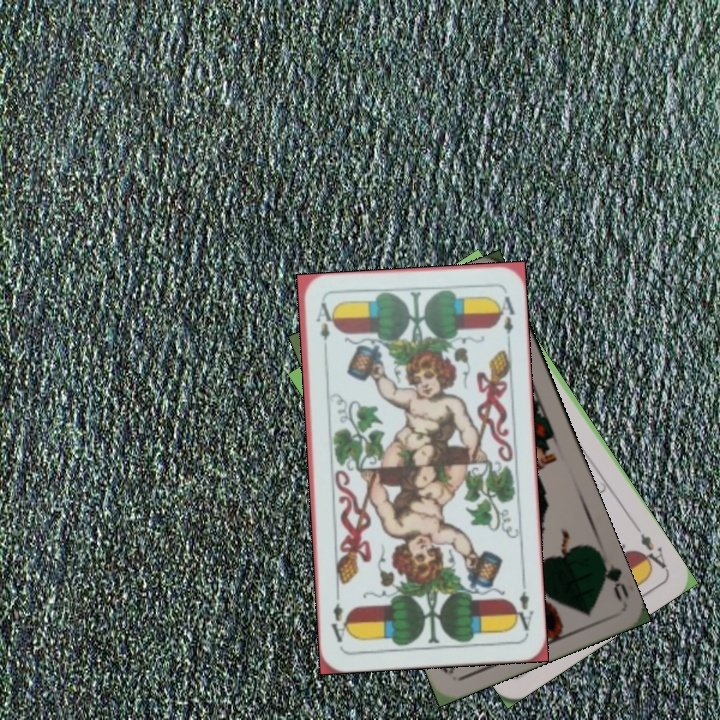EA: (509, 577, 537, 636), (634, 530, 670, 573), (311, 298, 333, 357)
GO: (595, 549, 632, 605)
